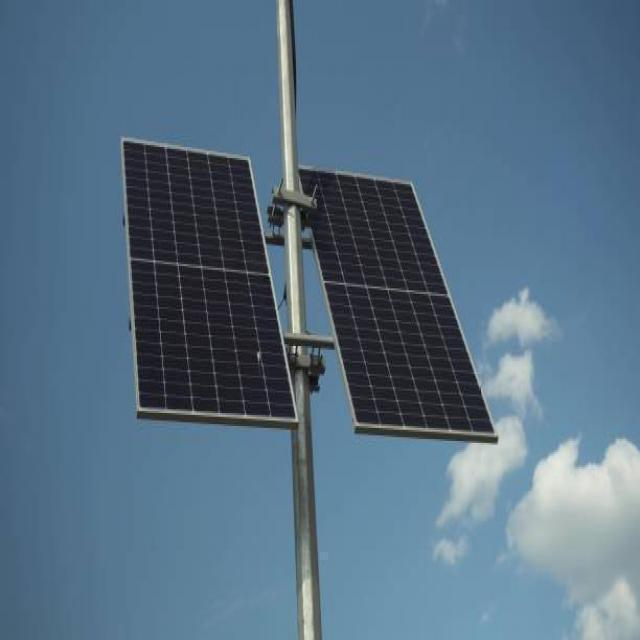Normal Solar Panel: (303, 169, 495, 435), (124, 136, 299, 422)
